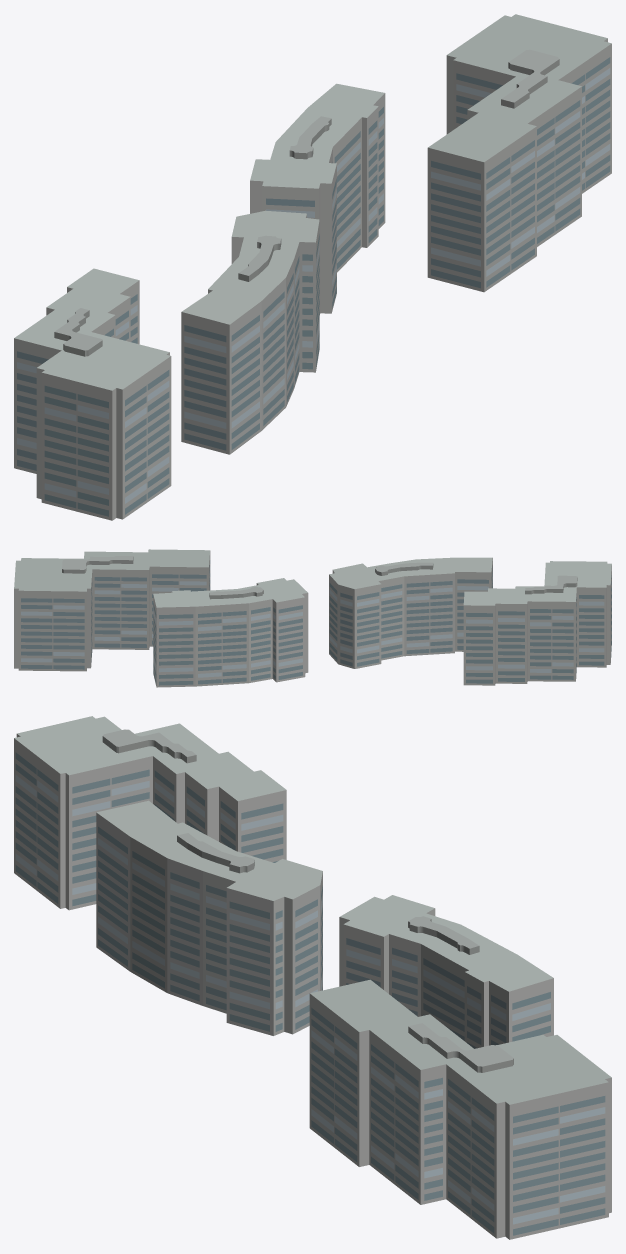
The model's file is apt-a13980006.glb.
The picture shows the model from 3 angles, top to bottom: view 1: azimuth 30°, elevation 25°; view 2: azimuth 150°, elevation 25°; view 3: azimuth 270°, elevation 25°; orthographic projection. The views are drawn at different scales.
Parts seen in each view (by area): view 1: apt-a13980006; view 2: apt-a13980006; view 3: apt-a13980006.
Part boxes in pixels (x1,y1,x2,y2): apt-a13980006: (14,14,611,520); apt-a13980006: (14,549,611,687); apt-a13980006: (14,716,611,1239).
Bounding box in the file's own units: 195 × 33 × 126.
